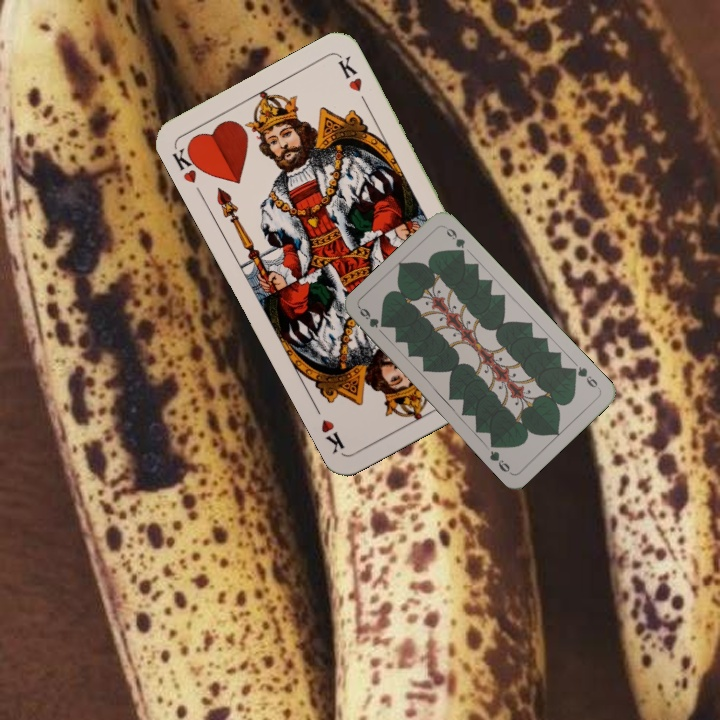G9: (567, 362, 603, 392), (356, 304, 381, 330)
HK: (168, 139, 207, 186)
